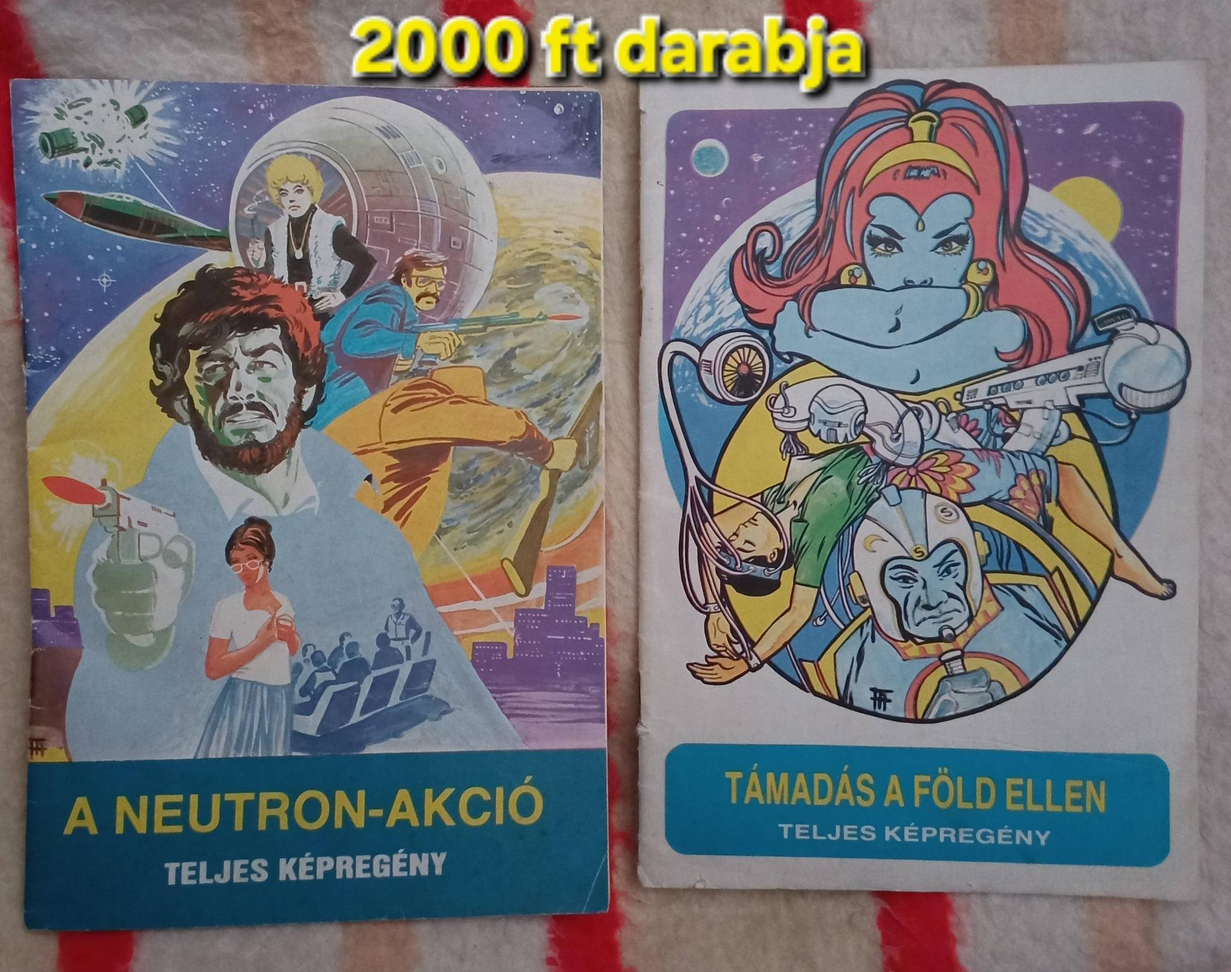comic: (13, 72, 613, 929), (638, 61, 1204, 897)
